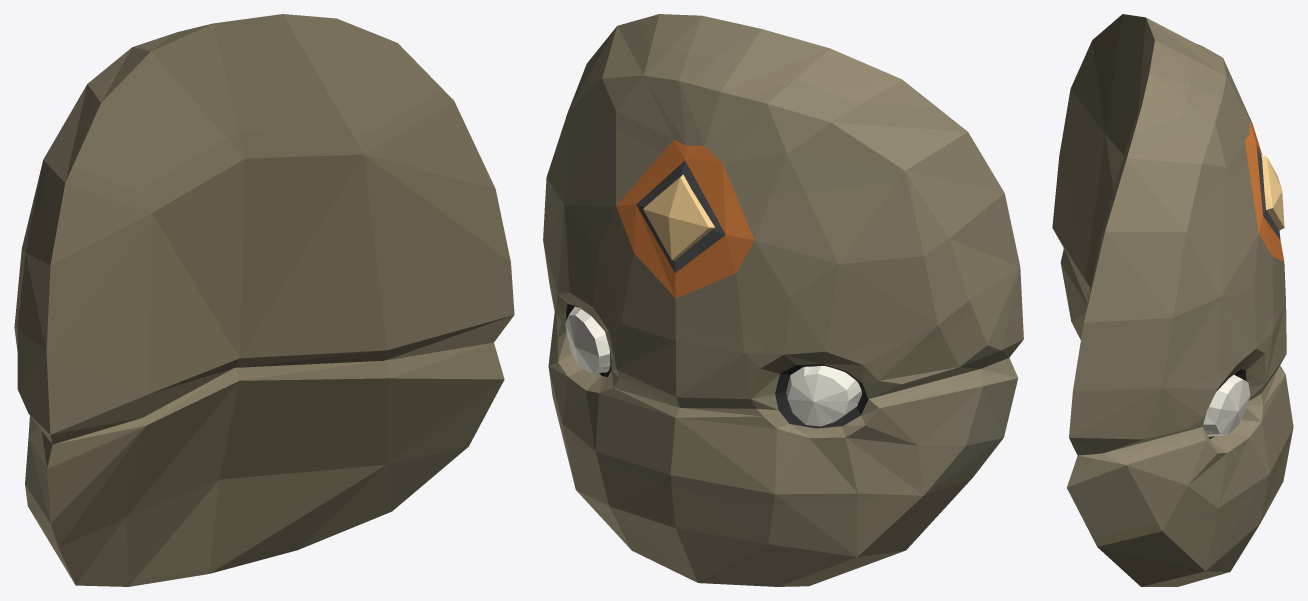
The model's file is CharSkyKid_Mask_Basic.glb.
3 renders of one model, left to right at view 1: azimuth 30°, elevation 25°; view 2: azimuth 150°, elevation 25°; view 3: azimuth 270°, elevation 25°, orthographic. The views are drawn at different scales.
Parts seen in each view (by area): view 1: CharSkyKid_Mask_Basic; view 2: CharSkyKid_Mask_Basic; view 3: CharSkyKid_Mask_Basic.
Boxes of the visible parts, <box> form: CharSkyKid_Mask_Basic: <box>14,14,514,586</box>; CharSkyKid_Mask_Basic: <box>543,14,1023,586</box>; CharSkyKid_Mask_Basic: <box>1052,14,1293,586</box>.
Size of the model in its own units: 2.15 by 2.49 by 1.06.
Materials: 1 (1 with a texture image).
